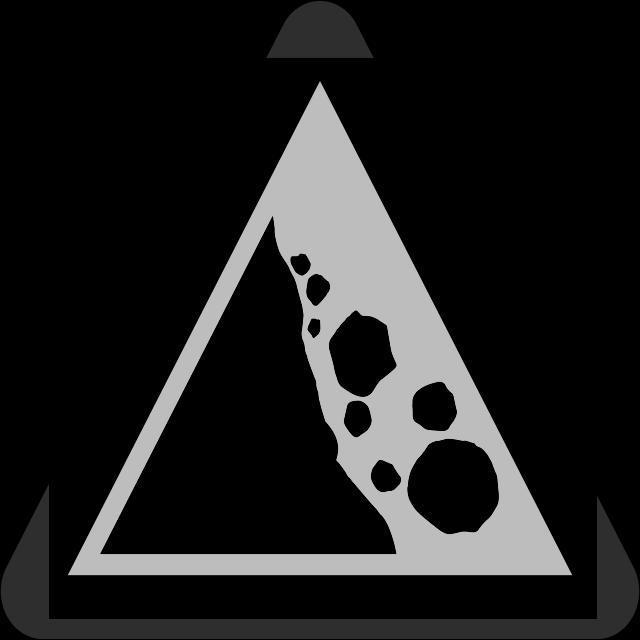falling rocks: (62, 69, 582, 589)
